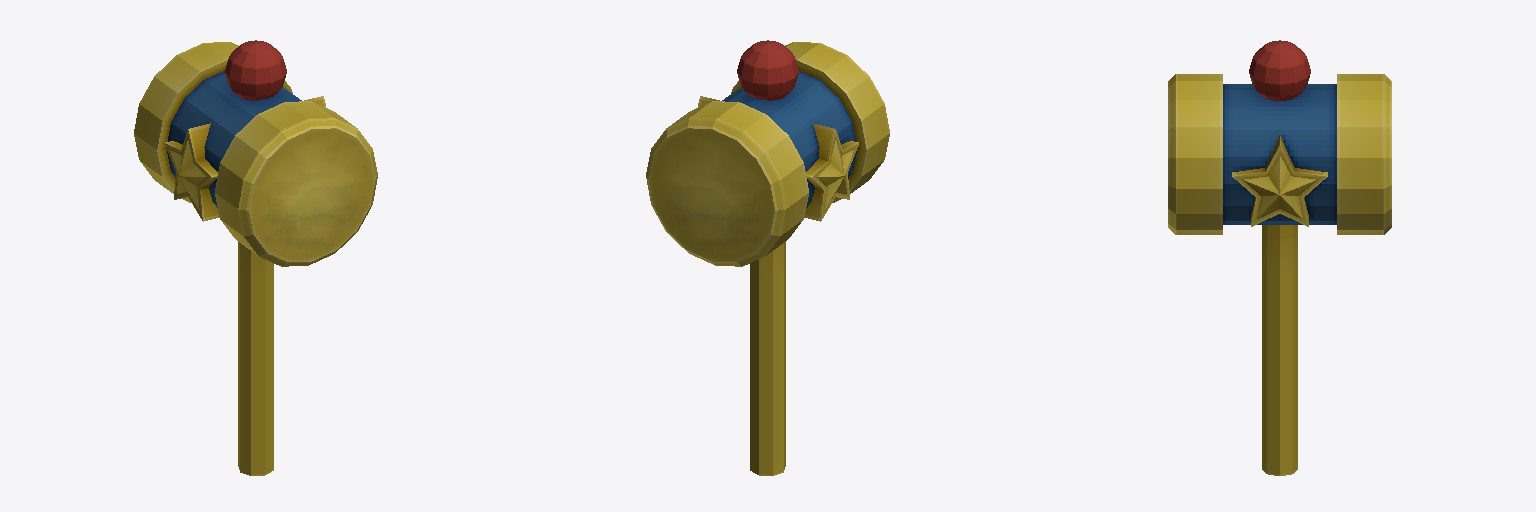
3 renders of one model, left to right at view 1: azimuth 30°, elevation 25°; view 2: azimuth 150°, elevation 25°; view 3: azimuth 270°, elevation 25°, orthographic.
Parts seen in each view (by area): view 1: KO_Hammer_Brawl; view 2: KO_Hammer_Brawl; view 3: KO_Hammer_Brawl.
Boxes of the visible parts, x1=… form: KO_Hammer_Brawl: x1=134, y1=40, x2=377, y2=475; KO_Hammer_Brawl: x1=646, y1=40, x2=889, y2=475; KO_Hammer_Brawl: x1=1168, y1=40, x2=1391, y2=475.
Bounding box in the file's own units: 14.29 × 37.82 × 18.07.
1 materials, 1 textured.